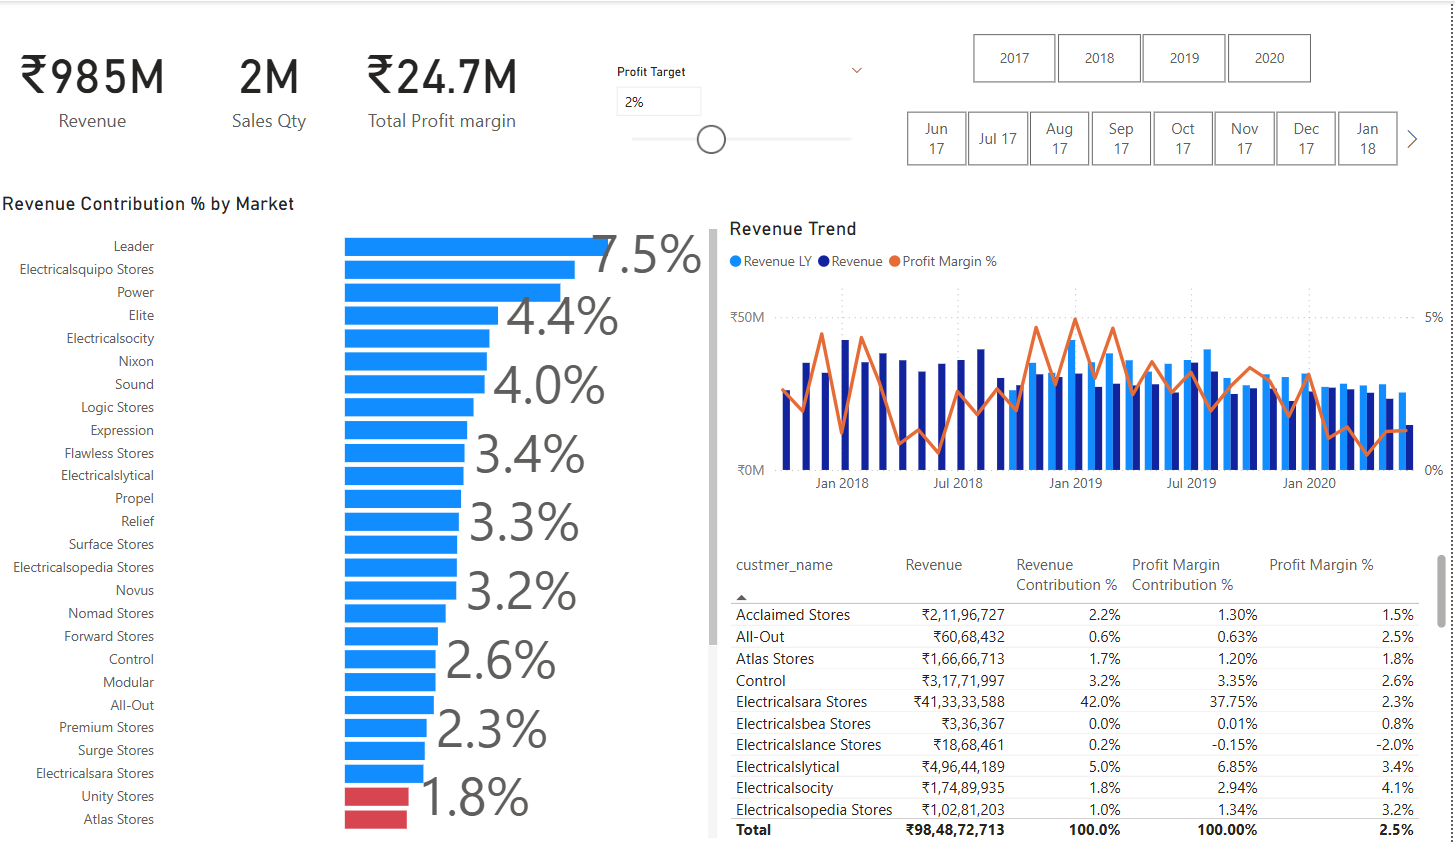

What the dashboard file says about the page in this screenshot:
{"tool":"powerbi","page":{"name":"Performance Insights","canvas":[1280,720],"ordinal":2},"visuals":[{"type":"card","fields":{"Values":["Basemeasures.Revenue"]},"box":[0,5.8,169.8,90.7],"z":0},{"type":"card","fields":{"Values":["Basemeasures.Sales Qty"]},"box":[168.6,0,144.2,101.2],"z":1000},{"type":"slicer","fields":{"Values":["sales date.year"]},"box":[832.9,0,347.2,56.3],"z":2000},{"type":"slicer","fields":{"Values":["sales date.cy_date"]},"box":[775.3,68.6,481.6,61.7],"z":3000},{"type":"tableEx","title":"Top 5 Customers","fields":{"Values":["sales customers.custmer_name","Basemeasures.Revenue","Basemeasures.Revenue Contribution %","Basemeasures.Profit Margin Contribution %","Basemeasures.Profit Margin %"]},"box":[639.5,459.7,640.8,260.7],"z":4000},{"type":"lineClusteredColumnComboChart","title":"Revenue Trend","fields":{"Category":["sales date.cy_date"],"Y":["Basemeasures.Revenue LY","Basemeasures.Revenue"],"Y2":["Basemeasures.Profit Margin %"]},"box":[639.5,168.8,640.8,252.5],"z":5000},{"type":"card","fields":{"Values":["Basemeasures.Total Profit margin"]},"box":[312.8,0,160.5,101.2],"z":6000},{"type":"barChart","title":"Revenue Contribution % by Market","fields":{"Y":["Basemeasures.Profit Margin %"],"Category":["sales markets.zone","sales markets.markets_name","sales customers.custmer_name","sales products.product_code"]},"box":[0,146.5,639.5,573.3],"z":7000},{"type":"slicer","fields":{"Values":["Profit Target.Profit Target"]},"box":[533.8,28.8,241.5,96.1],"z":8000}]}

Visuals, with their boxes in screenshot pixels (x1, y1, x2, y2), scaled from the page's 1280x720 canvas onto the 1455x843 screenshot:
card - Basemeasures.Revenue: left=0, top=7, right=193, bottom=113
card - Basemeasures.Sales Qty: left=192, top=0, right=356, bottom=118
slicer - sales date.year: left=947, top=0, right=1341, bottom=66
slicer - sales date.cy_date: left=881, top=80, right=1429, bottom=153
"Top 5 Customers" tableEx: left=727, top=538, right=1454, bottom=842
"Revenue Trend" lineClusteredColumnComboChart: left=727, top=198, right=1454, bottom=493
card - Basemeasures.Total Profit margin: left=356, top=0, right=538, bottom=118
"Revenue Contribution % by Market" barChart: left=0, top=172, right=727, bottom=842
slicer - Profit Target.Profit Target: left=607, top=34, right=881, bottom=146
